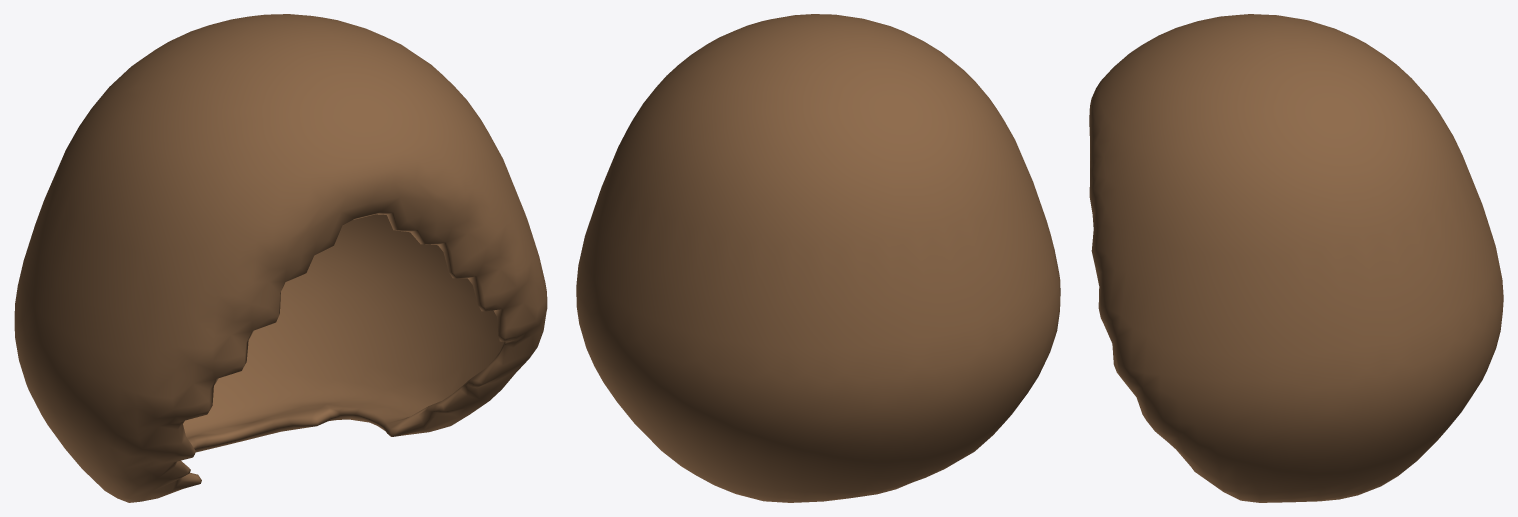
The model's file is f_bob.glb.
3 renders of one model, left to right at view 1: azimuth 30°, elevation 25°; view 2: azimuth 150°, elevation 25°; view 3: azimuth 270°, elevation 25°, orthographic. The views are drawn at different scales.
Visible parts, largest first — view 1: f_bob; view 2: f_bob; view 3: f_bob.
Part boxes in pixels (x1,y1,x2,y2): f_bob: (14,14,547,502); f_bob: (576,14,1060,502); f_bob: (1089,14,1503,502).
Bounding box in the file's own units: 2.34 × 2.2 × 1.94.
